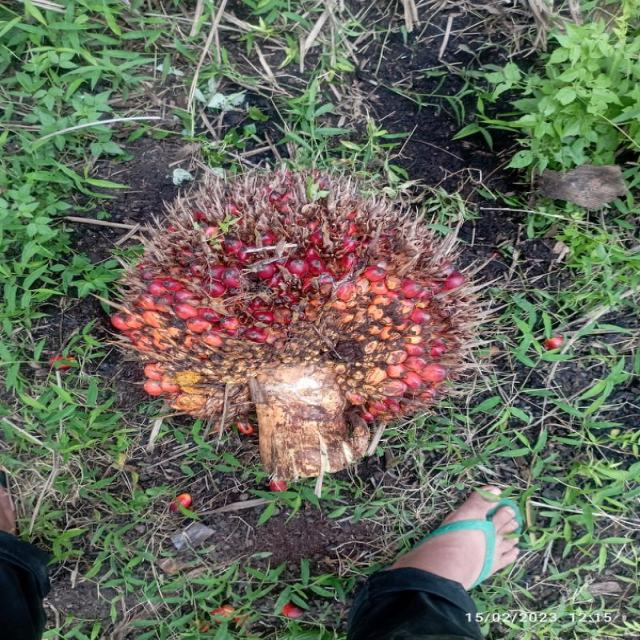fraksi 3: (99, 144, 512, 494)
